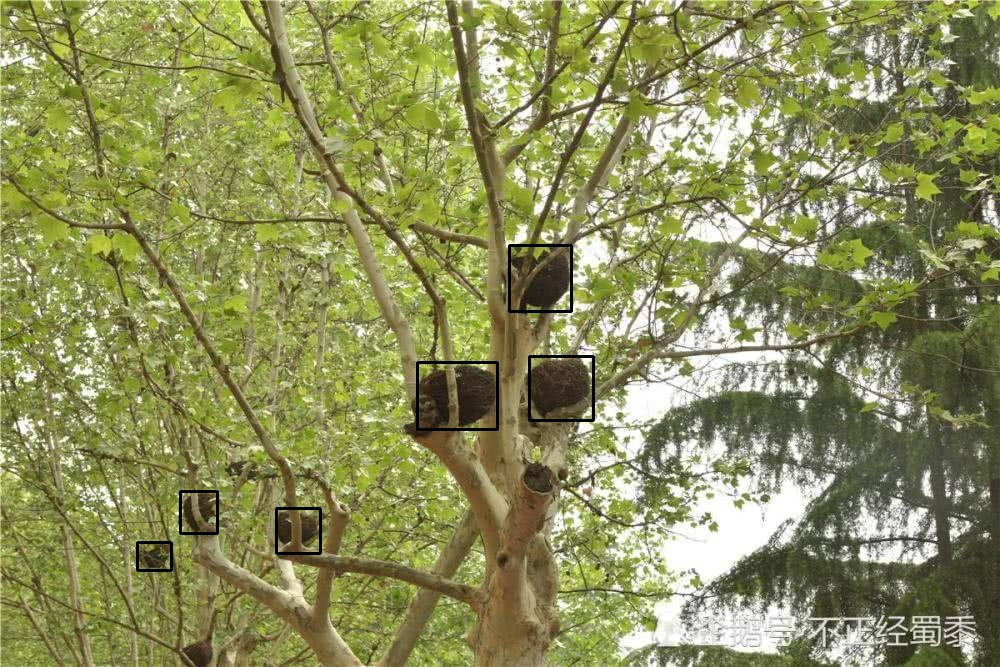bird-nest: (417, 362, 497, 429), (529, 356, 593, 420), (509, 245, 571, 311), (276, 508, 320, 553), (180, 491, 217, 533), (137, 542, 171, 570)
